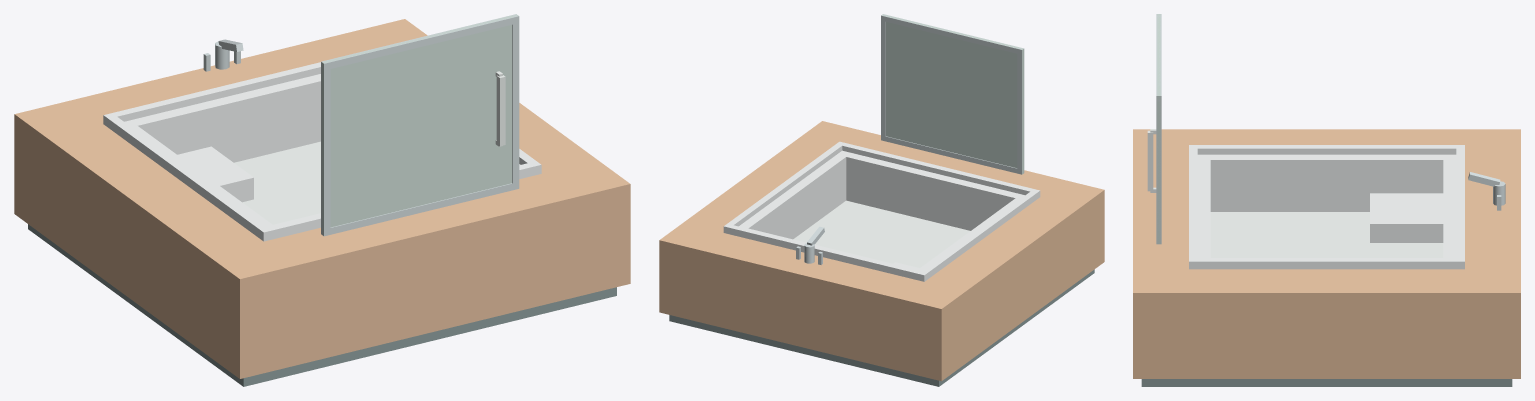
The model's file is bathCornerSpa.glb.
The picture shows the model from 3 angles, left to right: view 1: azimuth 30°, elevation 25°; view 2: azimuth 150°, elevation 25°; view 3: azimuth 270°, elevation 25°; orthographic projection. The views are drawn at different scales.
Visible parts, largest first — view 1: bathCornerSpa, anim:door; view 2: bathCornerSpa, anim:door; view 3: bathCornerSpa, anim:door.
Boxes of the visible parts, x1,y1,x2,y2 form: bathCornerSpa: [14, 19, 630, 386]; anim:door: [321, 14, 519, 236]; bathCornerSpa: [659, 121, 1104, 386]; anim:door: [881, 14, 1024, 174]; bathCornerSpa: [1133, 129, 1520, 386]; anim:door: [1147, 14, 1161, 244].
Bounding box in the file's own units: 0.9 × 0.65 × 0.9.
